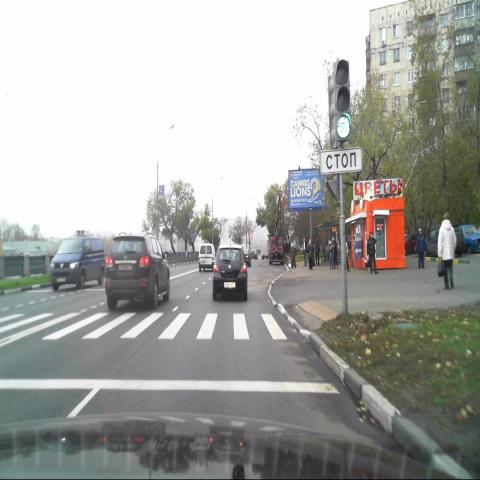6_16: (320, 150, 362, 172)
